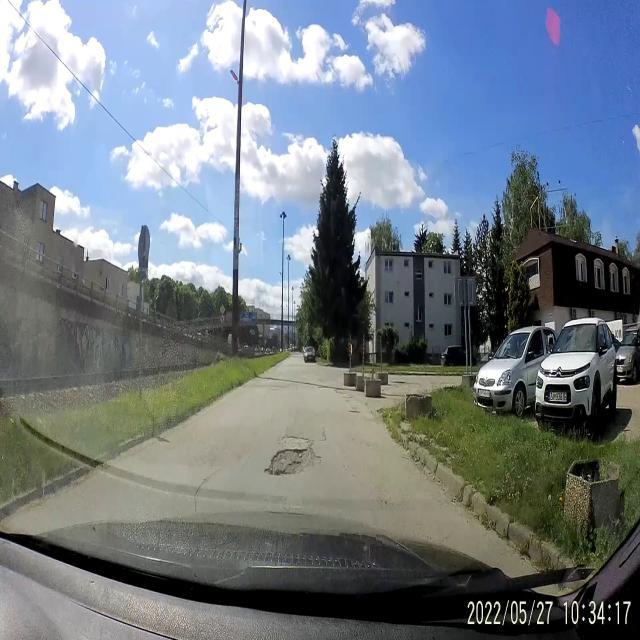Pothole: (268, 442, 316, 478), (278, 428, 312, 442), (347, 402, 362, 420), (321, 424, 329, 444)
